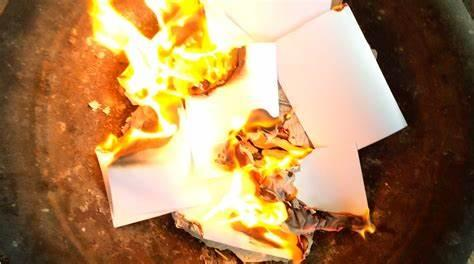Fire: (210, 109, 383, 264), (87, 0, 250, 86), (96, 87, 197, 171)
